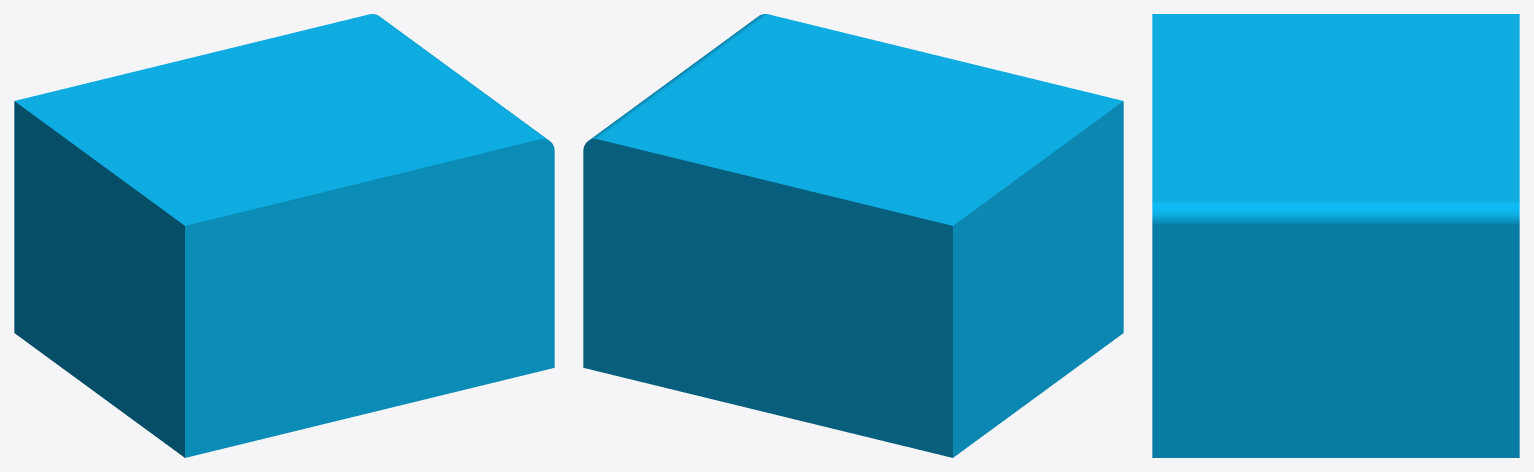
File: secici_pahlama_1.gltf
3 renders of one model, left to right at view 1: azimuth 30°, elevation 25°; view 2: azimuth 150°, elevation 25°; view 3: azimuth 270°, elevation 25°, orthographic. The views are drawn at different scales.
Visible parts, largest first — view 1: Gövde; view 2: Gövde; view 3: Gövde.
Part boxes in pixels (x1,y1,x2,y2): Gövde: [14, 14, 554, 457]; Gövde: [583, 14, 1123, 457]; Gövde: [1152, 14, 1519, 457].
Size of the model in its own units: 0.05 by 0.03 by 0.04.
